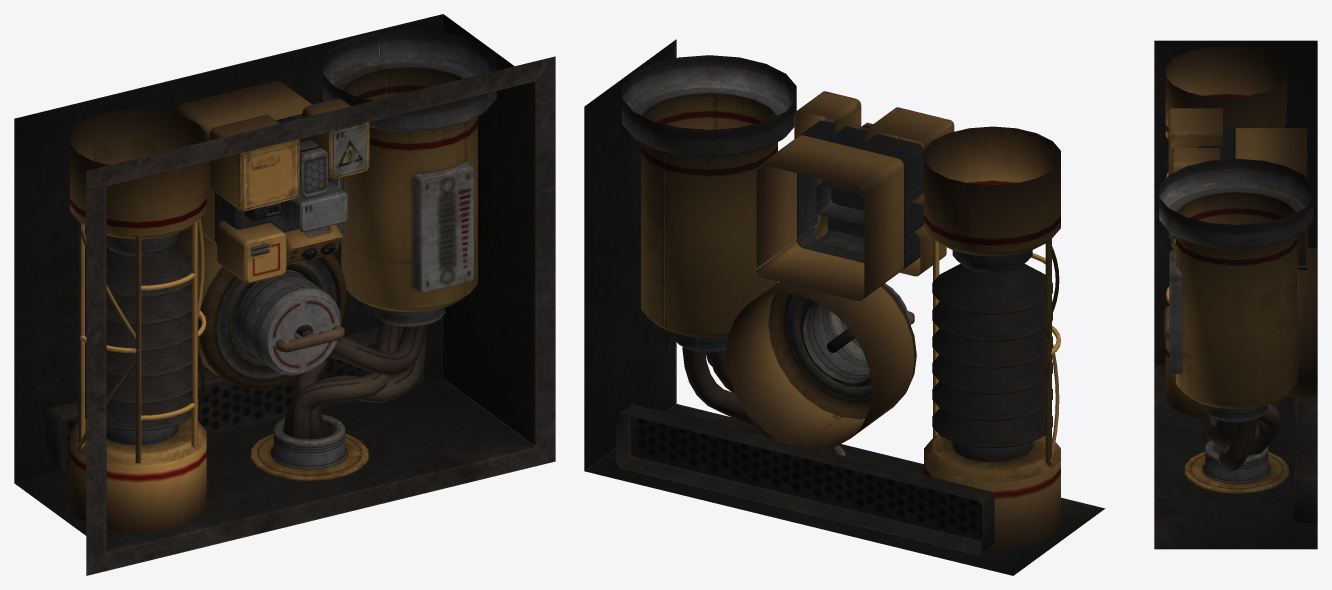
File: 02_07_power_pump.dae
3 views of the same model, side by side, from view 1: azimuth 30°, elevation 25°; view 2: azimuth 150°, elevation 25°; view 3: azimuth 270°, elevation 25° (orthographic). The views are drawn at different scales.
Parts seen in each view (by area): view 1: polySurface366, handle; view 2: polySurface366; view 3: polySurface366.
Part boxes in pixels (x1=…): polySurface366: x1=14, y1=14, x2=555, y2=575; handle: x1=275, y1=325, x2=344, y2=352; polySurface366: x1=584, y1=39, x2=1105, y2=575; polySurface366: x1=1154, y1=40, x2=1317, y2=549.
Bounding box in the file's own units: 2.11 × 1.74 × 0.7197.
